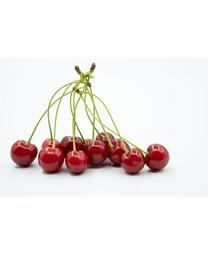cherry: (36, 147, 63, 173), (11, 141, 35, 168), (147, 146, 169, 171), (109, 139, 131, 164), (60, 136, 84, 158), (67, 150, 88, 173), (84, 142, 106, 163), (123, 150, 143, 172), (108, 155, 118, 166)
